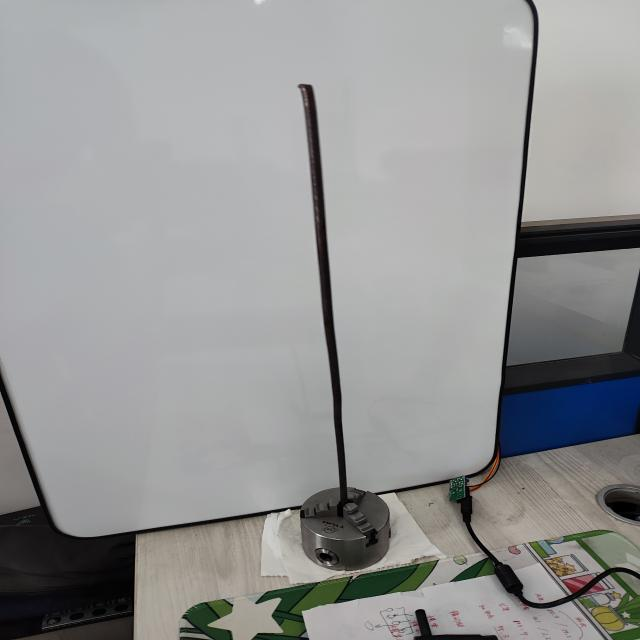plain round bar: (285, 82, 362, 497)
